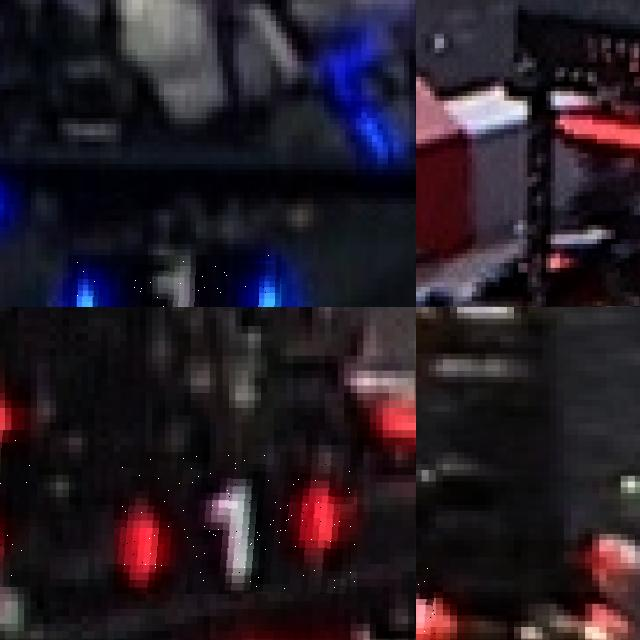B1: (67, 255, 281, 307)
R1: (114, 452, 357, 594), (0, 430, 30, 586)
